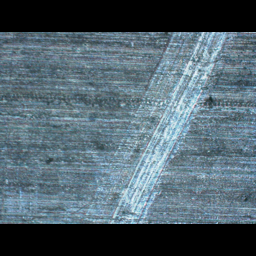d: (145, 31, 237, 153), (83, 132, 175, 223)
